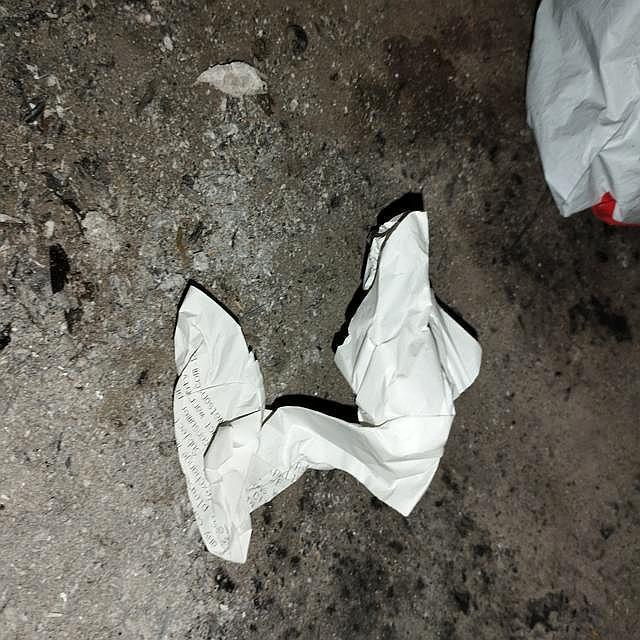Biodegradable: (173, 211, 481, 567)
